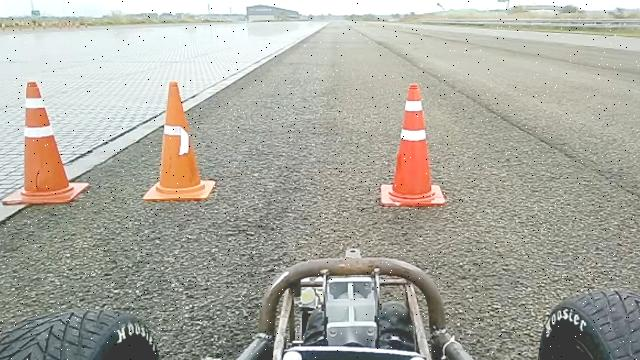red cone: (2, 79, 90, 205), (142, 80, 215, 202), (379, 82, 446, 207)
